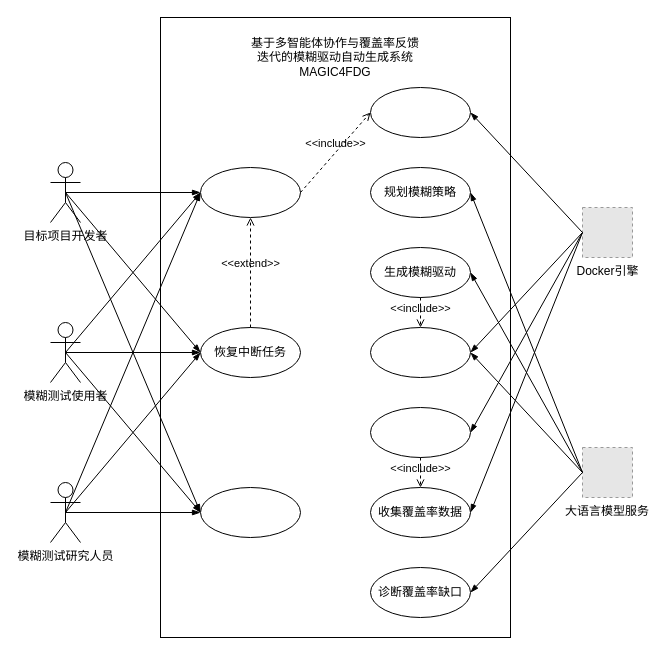
Image size: 667x655. Some labels were removed from this diagram. Grey dashed boxes stand in for pictures. The shapes that lost their labels are listed below. From the top down, each one's centre as x and y in pixels, then its label:
At (x=420, y=112): "提取API知识".
At (x=250, y=192): "配置目标库".
At (x=420, y=352): "修复编译错误".
At (x=420, y=432): "执行模糊测试".
At (x=250, y=512): "查看实验报告".
